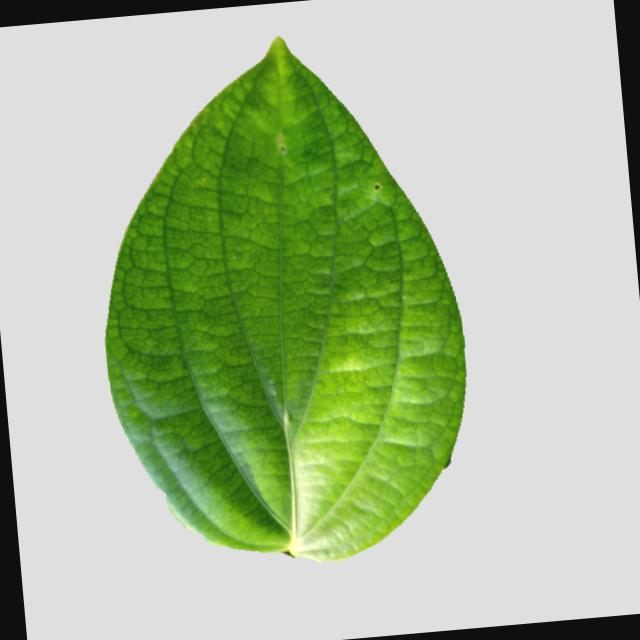healthy: (61, 13, 490, 590)
